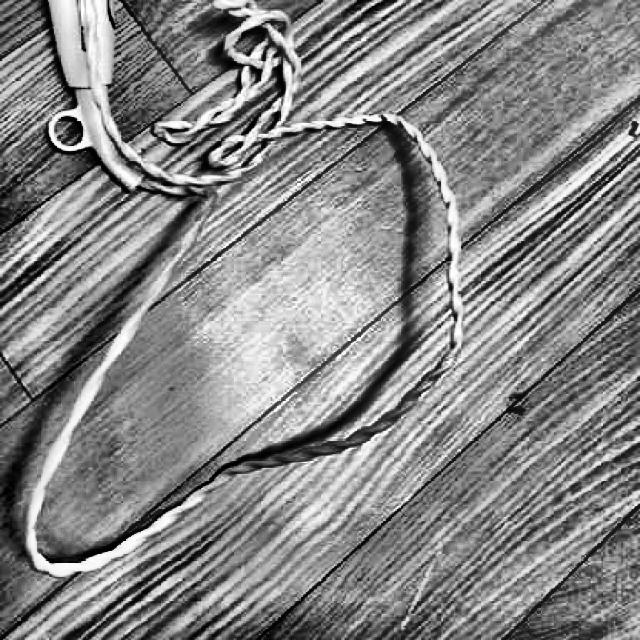Cable: (20, 0, 466, 580)
